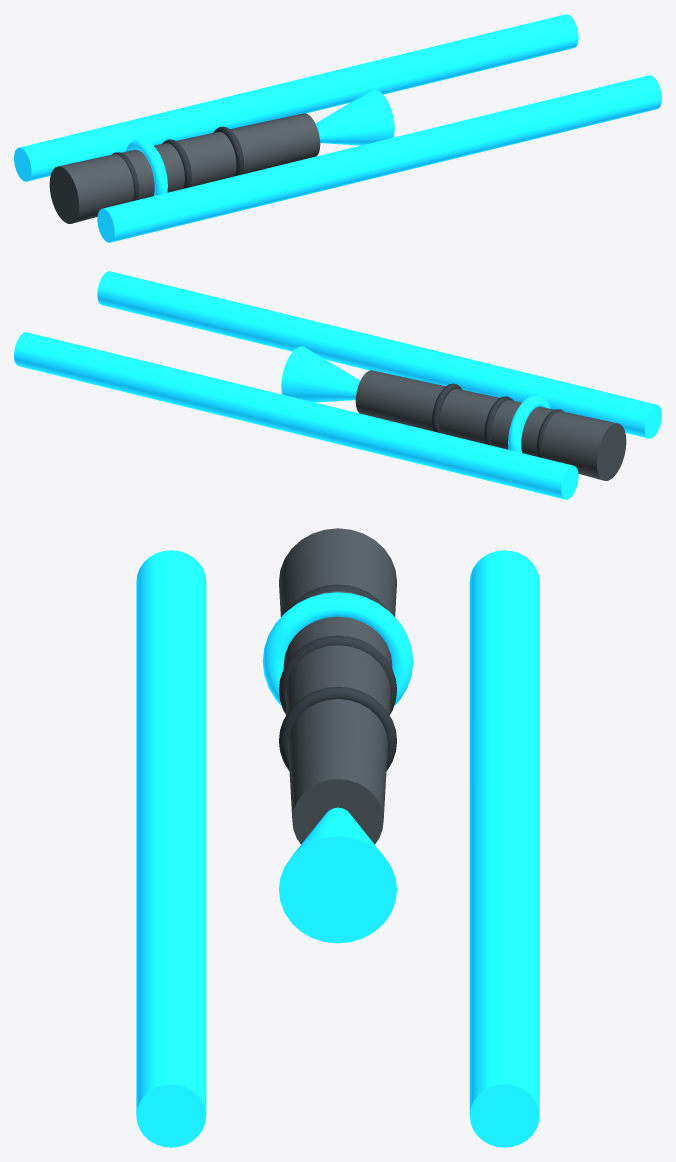
The model's file is shot.glb.
3 renders of one model, top to bottom at view 1: azimuth 30°, elevation 25°; view 2: azimuth 150°, elevation 25°; view 3: azimuth 270°, elevation 25°, orthographic. The views are drawn at different scales.
Size of the model in its own units: 4.7 by 0.56 by 1.5.
